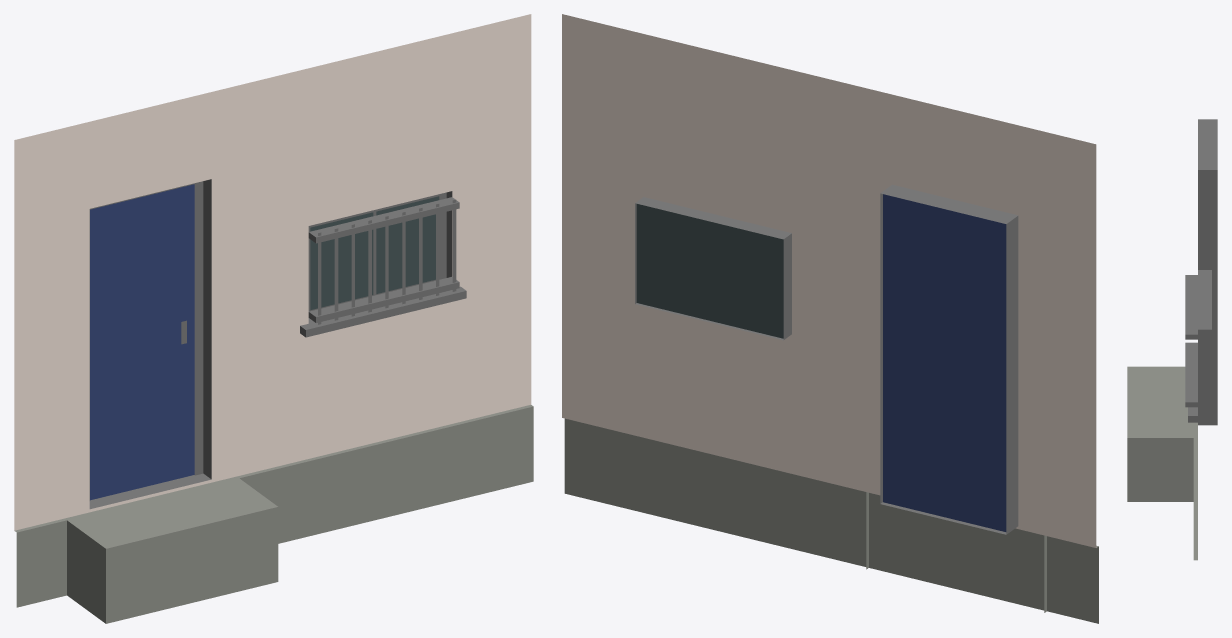
3 renders of one model, left to right at view 1: azimuth 30°, elevation 25°; view 2: azimuth 150°, elevation 25°; view 3: azimuth 270°, elevation 25°, orthographic. The views are drawn at different scales.
Parts seen in each view (by area): view 1: a2001/200/base-w3; view 2: a2001/200/base-w3; view 3: a2001/200/base-w3.
Boxes of the visible parts, x1,y1,x2,y2 form: a2001/200/base-w3: (14, 14, 533, 623); a2001/200/base-w3: (562, 14, 1098, 623); a2001/200/base-w3: (1127, 119, 1217, 560).
Size of the model in its own units: 3.6 by 3.1 by 0.64.
